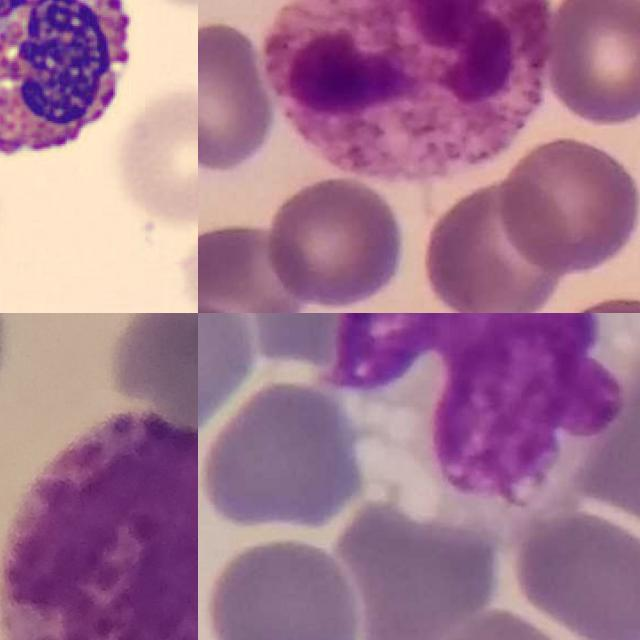Basophil: (3, 414, 198, 640)
Eosinophil: (0, 0, 148, 175)
Monocyte: (329, 313, 629, 518)
Neutrophil: (260, 0, 553, 180)
RBC: (113, 82, 198, 226)
